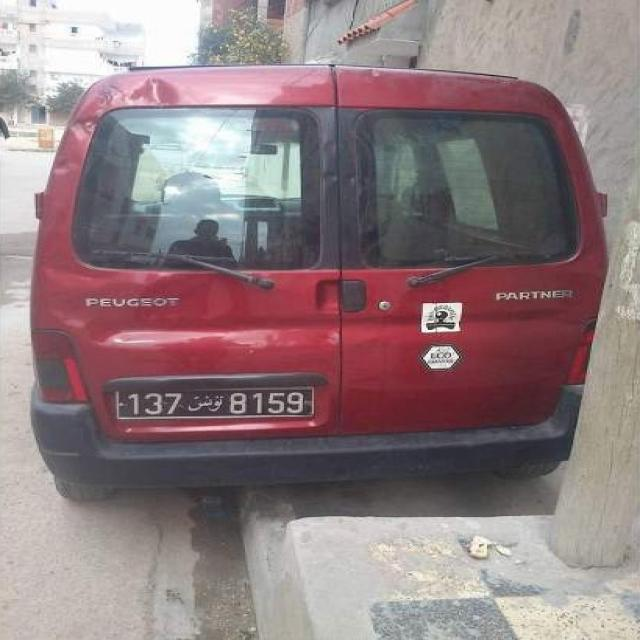licence plate: (117, 389, 314, 417)
